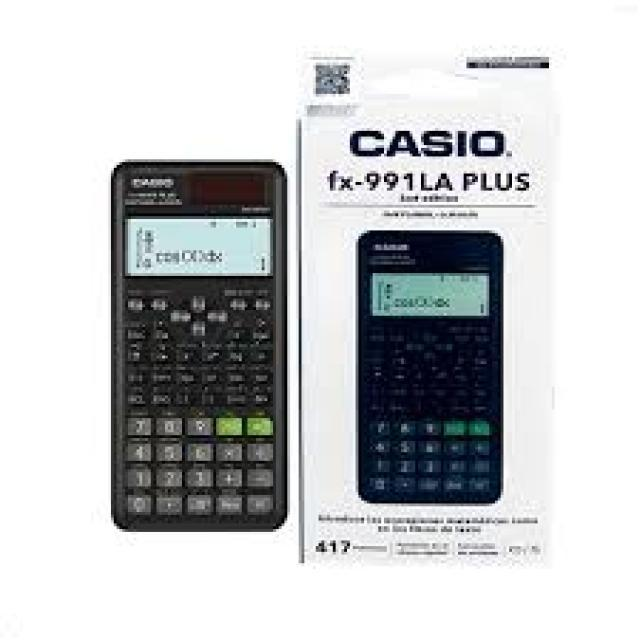Calculator: (102, 141, 293, 530), (350, 234, 505, 508)
